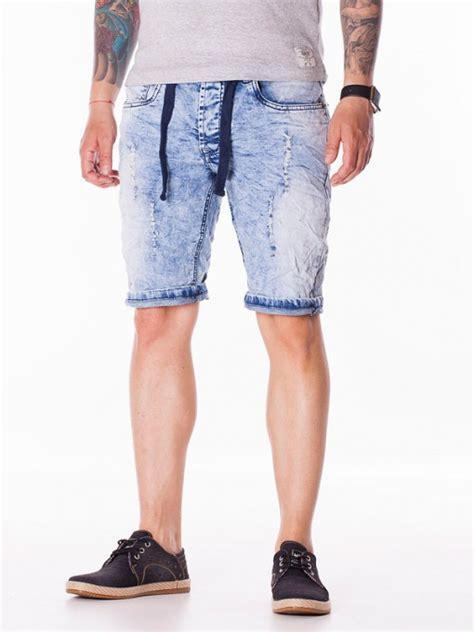short: (121, 72, 331, 316)
